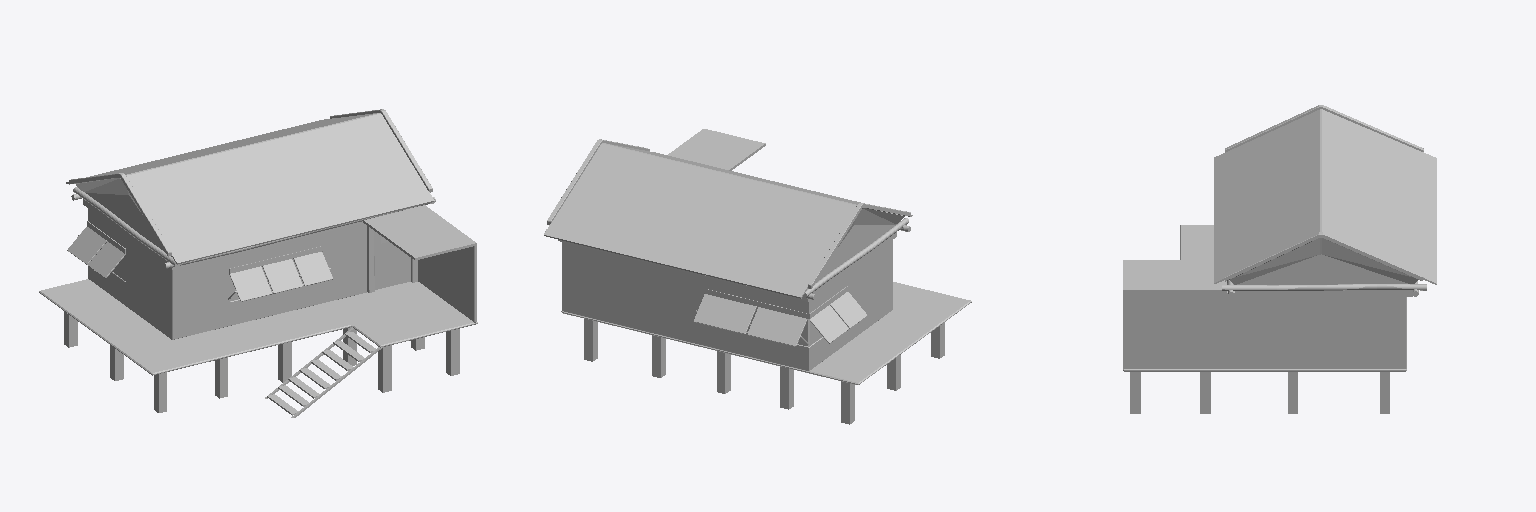
The model's file is Fish house.obj.
3 renders of one model, left to right at view 1: azimuth 30°, elevation 25°; view 2: azimuth 150°, elevation 25°; view 3: azimuth 270°, elevation 25°, orthographic.
Visible parts, largest first — view 1: FishHouse2; view 2: FishHouse2; view 3: FishHouse2.
Part boxes in pixels (x1,y1,x2,y2): FishHouse2: (39,109,477,417); FishHouse2: (544,129,971,424); FishHouse2: (1123,105,1436,413).
Size of the model in its own units: 914 by 538 by 809.